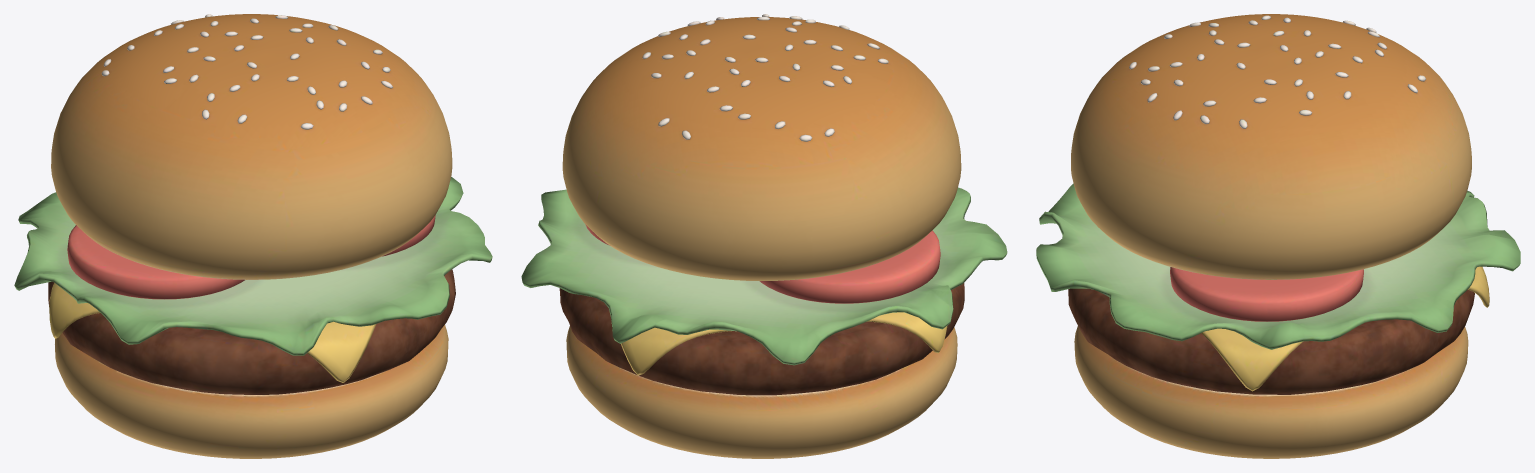
File: burger.glb
The picture shows the model from 3 angles, left to right: view 1: azimuth 30°, elevation 25°; view 2: azimuth 150°, elevation 25°; view 3: azimuth 270°, elevation 25°; orthographic projection.
Visible parts, largest first — view 1: burger_body; view 2: burger_body; view 3: burger_body.
Boxes of the visible parts, left/top/right/bottom form: burger_body: left=14, top=14, right=492, bottom=458; burger_body: left=521, top=14, right=1007, bottom=458; burger_body: left=1036, top=14, right=1520, bottom=458.
Size of the model in its own units: 0.1343 by 0.1027 by 0.1322.
1 material, 1 textured.
